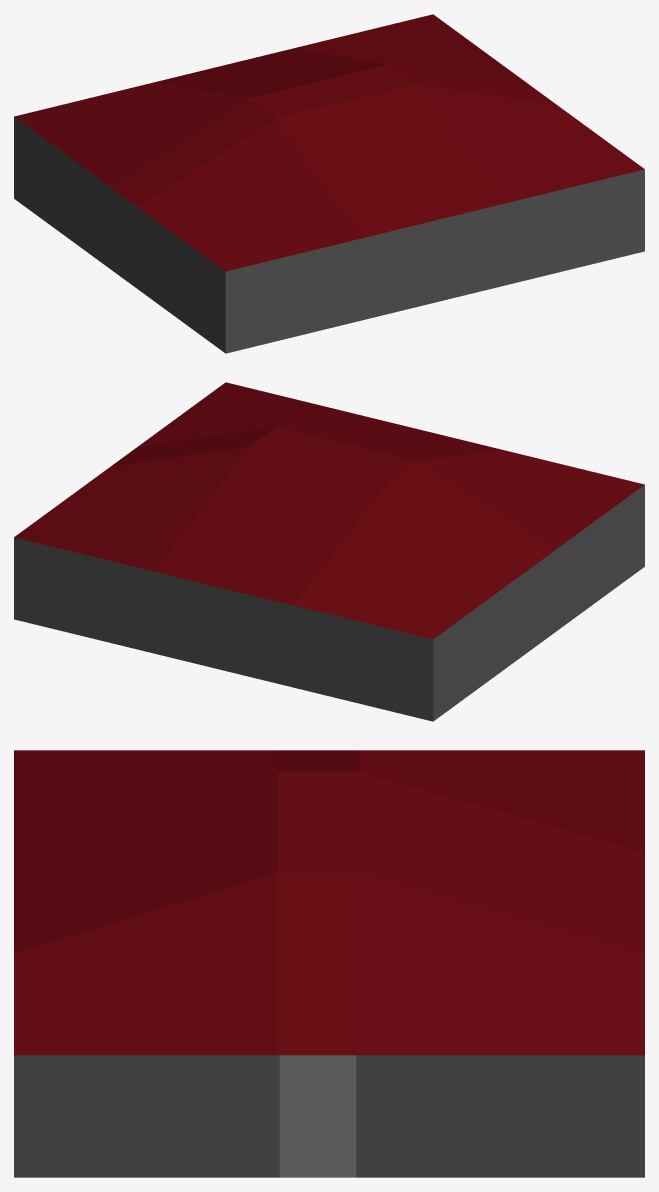
3 views of the same model, one above another, from view 1: azimuth 30°, elevation 25°; view 2: azimuth 150°, elevation 25°; view 3: azimuth 270°, elevation 25° (orthographic). The views are drawn at different scales.
Parts seen in each view (by area): view 1: House; view 2: House; view 3: House.
Part boxes in pixels (<box>): House: <box>14,14,644,353</box>; House: <box>14,382,644,721</box>; House: <box>14,750,644,1177</box>.
Size of the model in its own units: 1522 by 473 by 1332.
